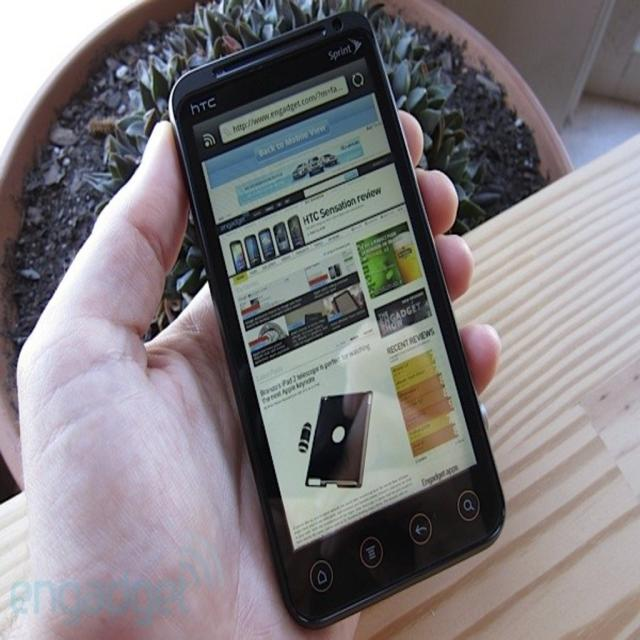Mobile-phone: (158, 3, 507, 624)
